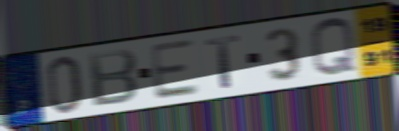0: (44, 53, 85, 116)
3: (263, 26, 302, 83)
B: (86, 47, 140, 110)
E: (147, 37, 202, 103)
Q: (308, 15, 360, 80)
T: (203, 32, 244, 91)
